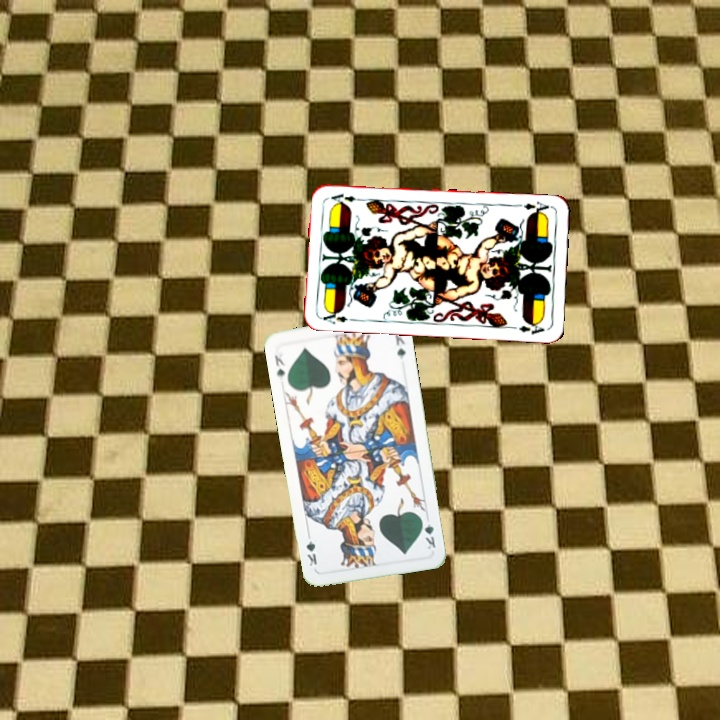EA: (318, 307, 359, 327), (520, 197, 551, 217)
GK: (417, 513, 438, 552), (270, 351, 287, 383)
